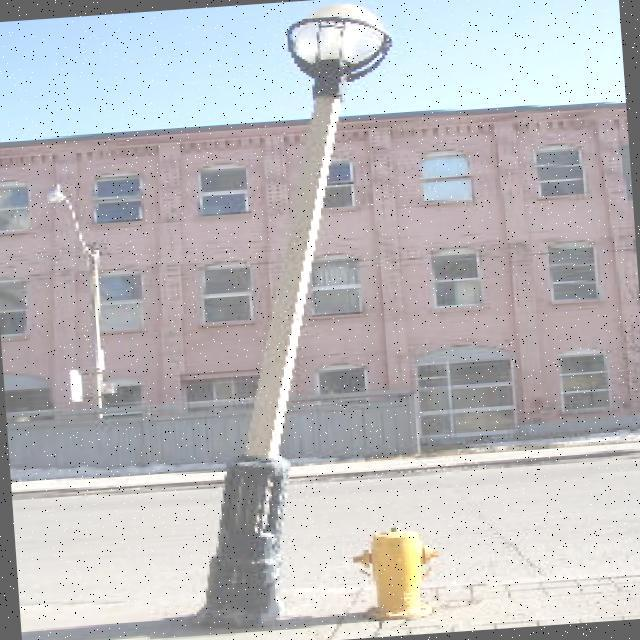fire_hydrant: (346, 522, 442, 624)
